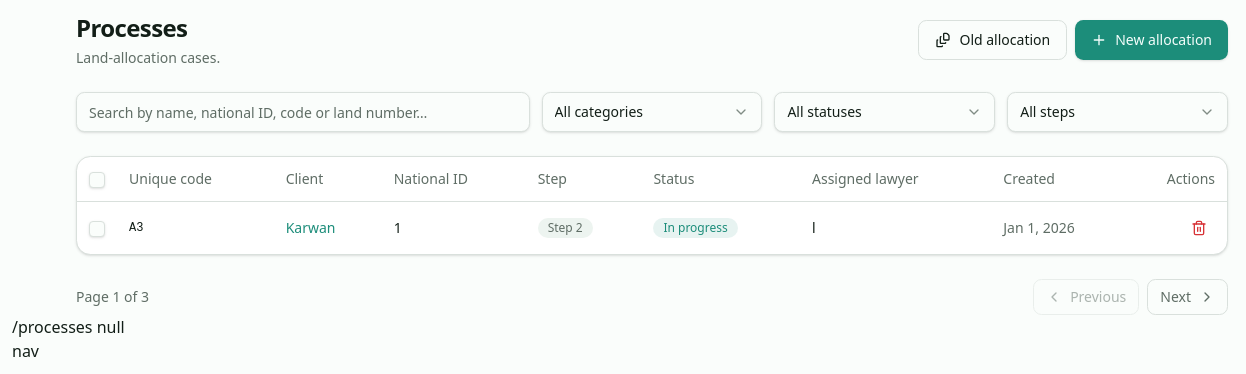
Test case: ProcessesPage filters in the URL › keeps the space still being typed after the box's own value settles
This screenshot has width=1246, height=374.
Type "kar " into the field with placeholder "Search by name, national ID, code or land number…" at (303, 112), box [76,92,530,132]
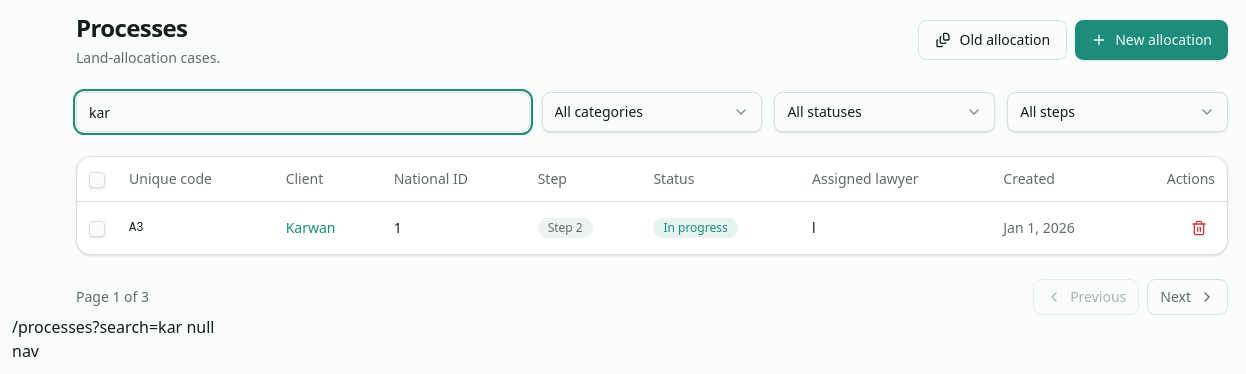
Expected: the text with test id "where" reads "/processes?search=kar null", [12,316,214,338]
